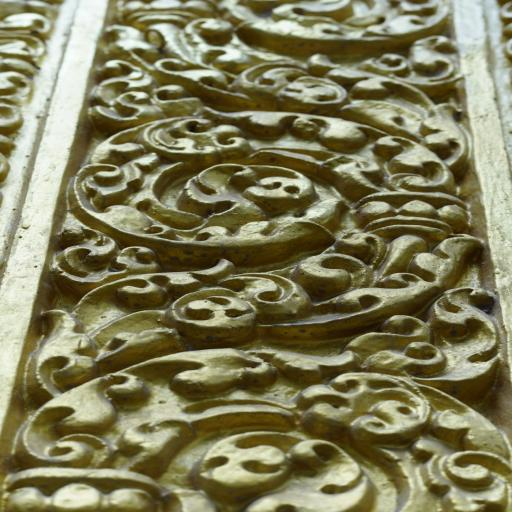la: (29, 110, 469, 375), (19, 334, 512, 512), (92, 0, 478, 119)
